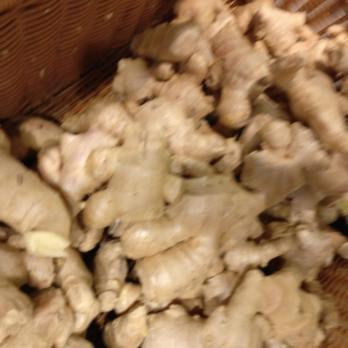Ginger: (0, 126, 348, 348), (81, 0, 348, 123)
